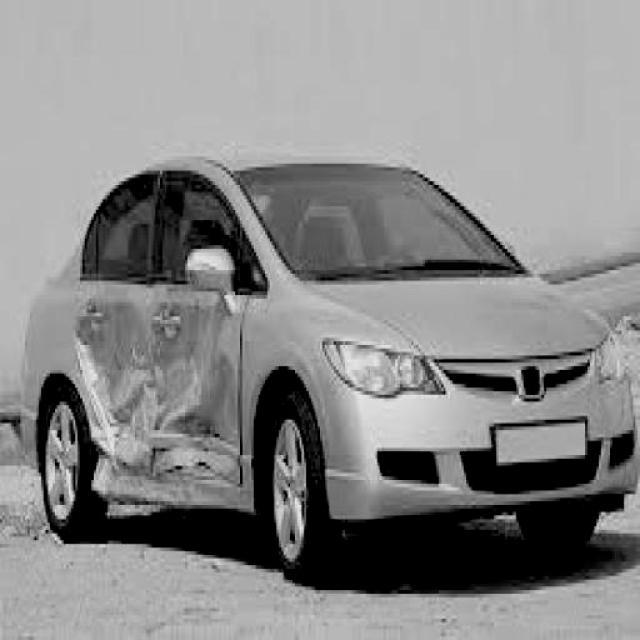car damage: (66, 274, 256, 510)
